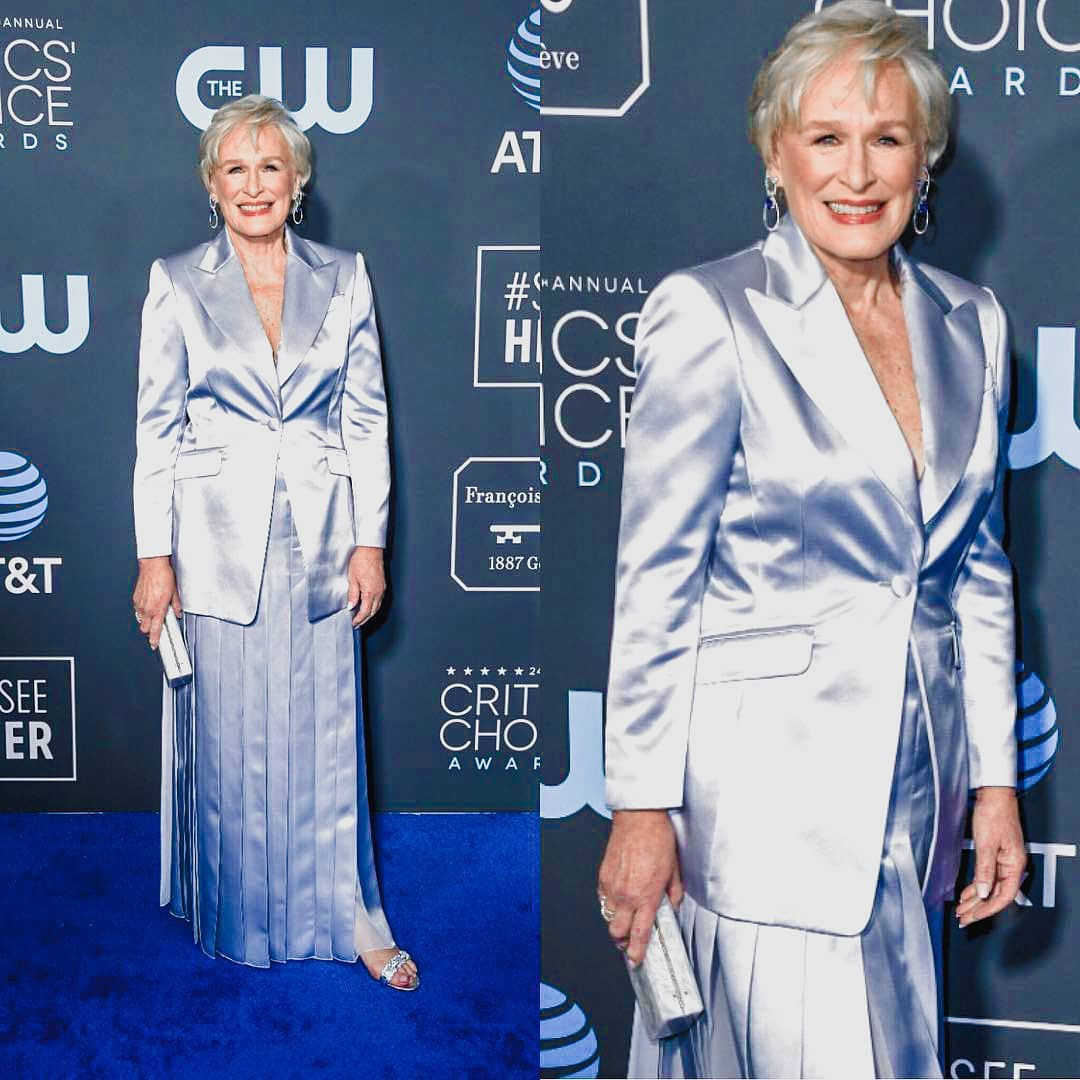hand: (957, 784, 1013, 920)
